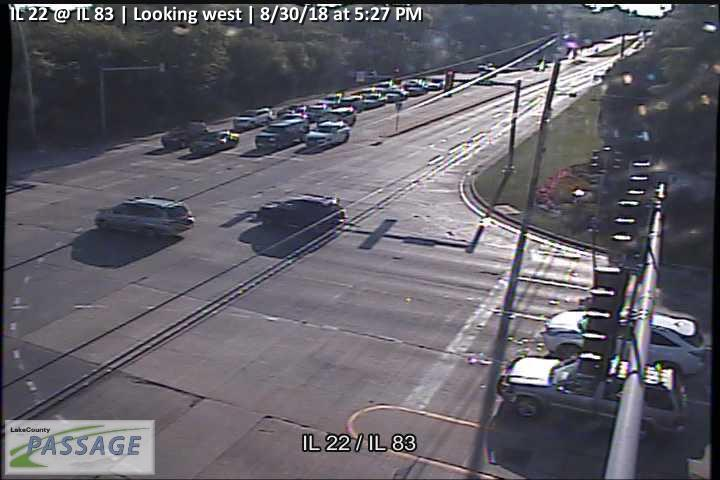SUV: (496, 354, 691, 440), (541, 309, 707, 376), (94, 196, 196, 238), (256, 194, 346, 234), (255, 118, 310, 149), (306, 120, 353, 148), (160, 120, 207, 148), (233, 107, 273, 128), (316, 107, 357, 124)
Sedan: (189, 130, 240, 156)
